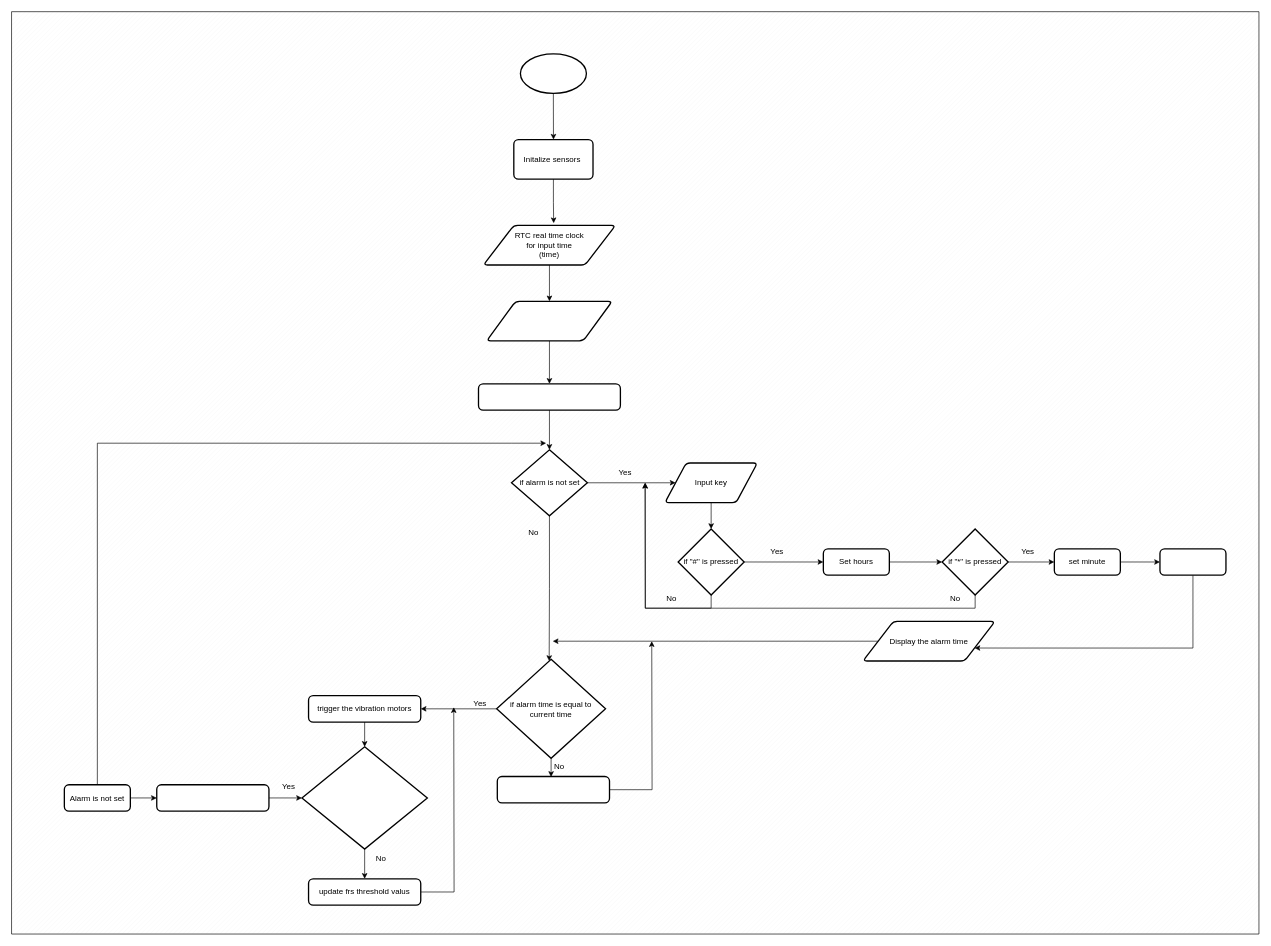
This 1271x946 diagram has some shape labels left out. Each missing label, with the centre of its shape:
Alarm is set: (x=1192, y=562)
FSR sensor Input (fsr): (x=549, y=320)
Get the time.current: (x=549, y=397)
if the frs threshold is greator than fixed threshold: (x=364, y=797)
Start: (x=553, y=73)
stop vibration motors: (x=212, y=797)
update current time: (x=553, y=789)
